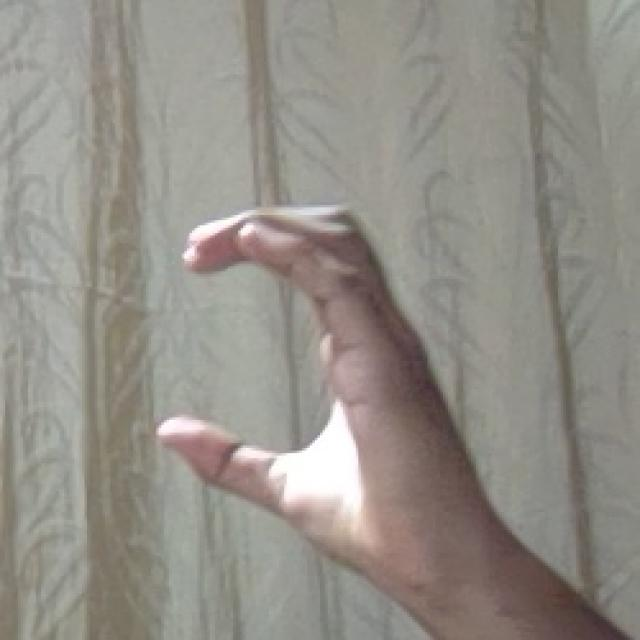Alphabet-C: (159, 207, 627, 640)
